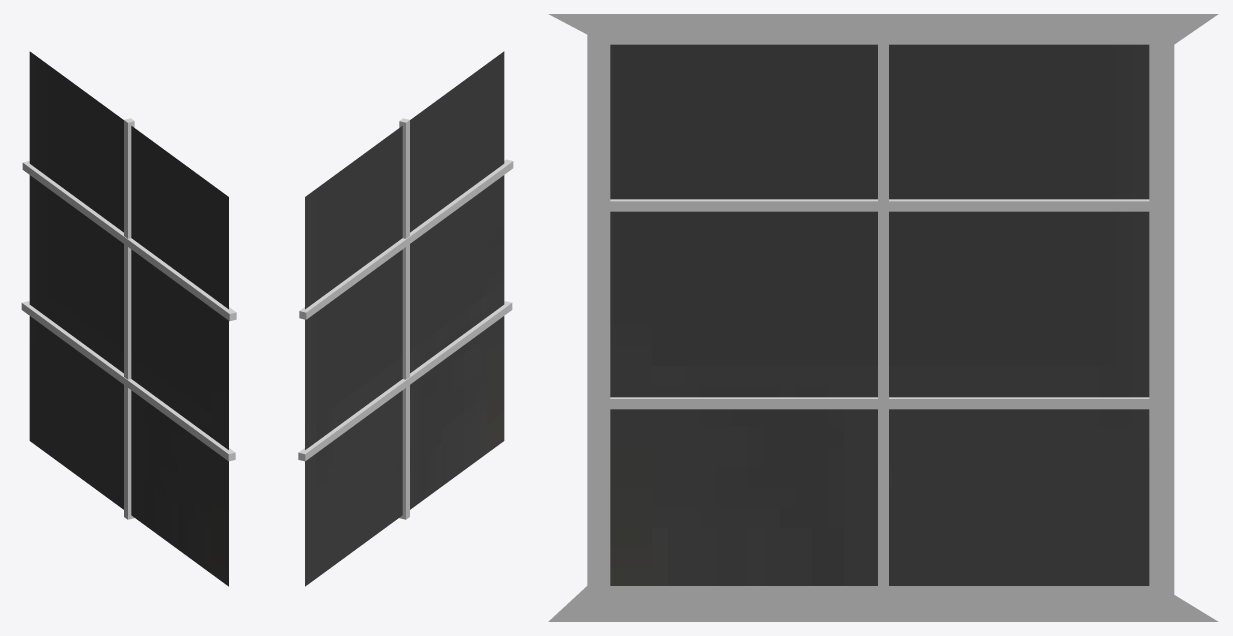
Rendered from testWindow.b00c163d.gltf.
3 views of the same model, side by side, from view 1: azimuth 30°, elevation 25°; view 2: azimuth 150°, elevation 25°; view 3: azimuth 270°, elevation 25° (orthographic). The views are drawn at different scales.
Parts seen in each view (by area): view 1: Plane.001, Cube, Cube.001, Cube.002; view 2: Plane.001, Cube, Cube.001, Cube.002; view 3: Plane.001, Plane, Cube.002, Cube.001, Cube.
Boxes of the visible parts, x1,y1,x2,y2 form: Plane.001: (29, 51, 228, 586); Cube: (124, 118, 134, 519); Cube.001: (21, 301, 235, 461); Cube.002: (22, 161, 236, 321); Plane.001: (305, 51, 504, 586); Cube: (399, 118, 409, 519); Cube.001: (298, 301, 512, 461); Cube.002: (299, 159, 513, 319); Plane.001: (610, 44, 1149, 585); Plane: (548, 14, 1218, 621); Cube.002: (610, 199, 1149, 211); Cube.001: (610, 397, 1149, 409); Cube: (878, 44, 888, 585).
Size of the model in its own units: 0.12 by 6 by 6.
1 material, 1 textured.
